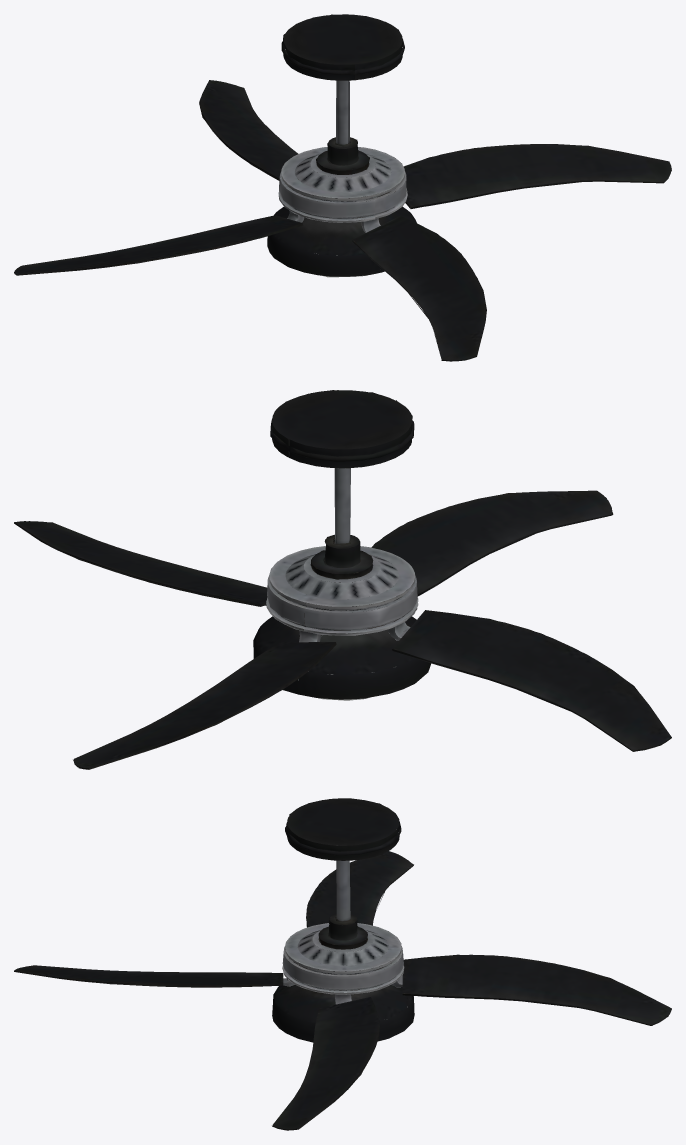
Rendered from ceiling_fan.glb.
3 views of the same model, one above another, from view 1: azimuth 30°, elevation 25°; view 2: azimuth 150°, elevation 25°; view 3: azimuth 270°, elevation 25° (orthographic). The views are drawn at different scales.
Parts seen in each view (by area): view 1: ceiling_fan; view 2: ceiling_fan; view 3: ceiling_fan.
Part boxes in pixels (box(x1,y1,x2,y2)): ceiling_fan: box(14, 14, 671, 361); ceiling_fan: box(14, 390, 671, 769); ceiling_fan: box(14, 798, 671, 1130).
Size of the model in its own units: 1.46 by 0.5164 by 1.46.
Materials: 1 (1 with a texture image).
